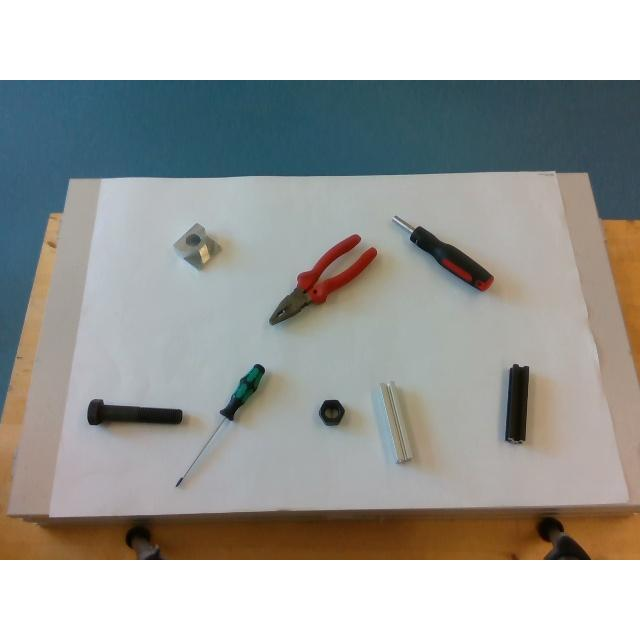F20_20_B: (504, 364, 528, 442)
F20_20_G: (378, 382, 412, 462)
M20: (320, 399, 344, 425)
M20_100: (87, 400, 181, 424)
Screwdriver: (175, 364, 265, 488)
